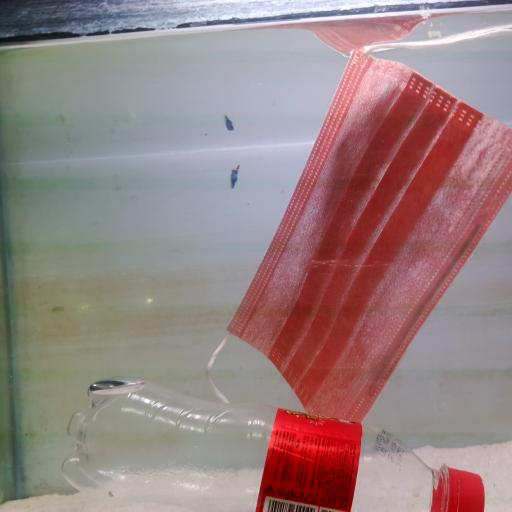bottle_cap: (432, 468, 493, 512)
mask: (208, 28, 512, 396)
plastic_bottle: (58, 374, 487, 512)
